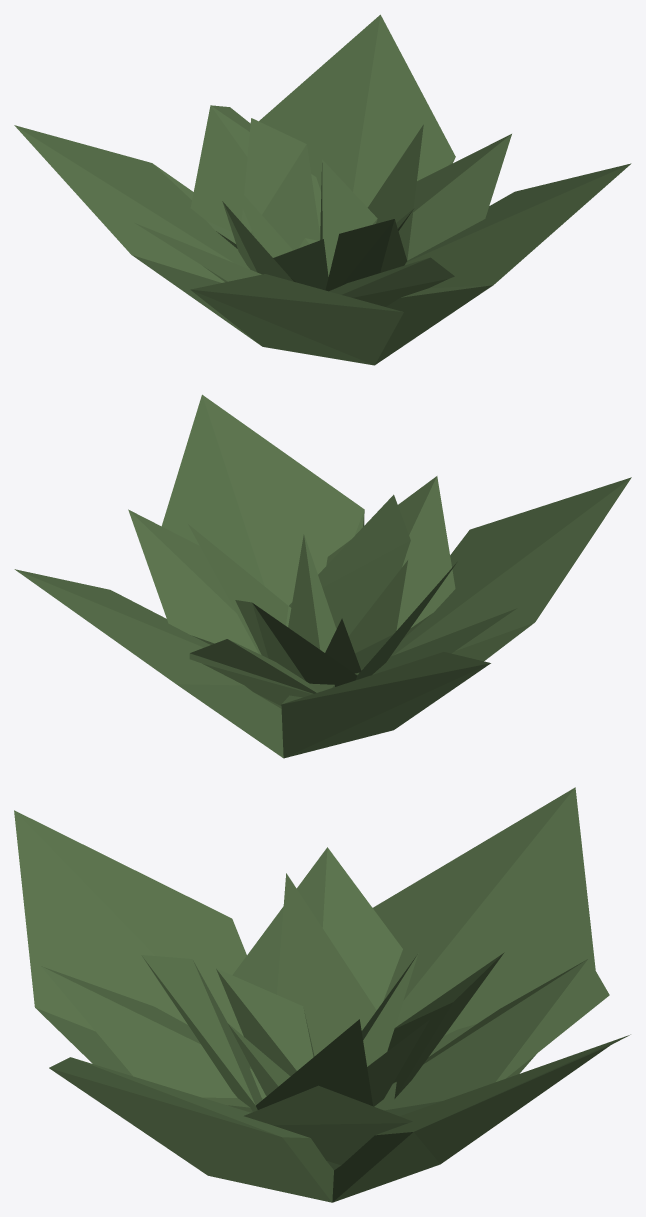
File: CactusFlower_1.lod3.glb
The picture shows the model from 3 angles, top to bottom: view 1: azimuth 30°, elevation 25°; view 2: azimuth 150°, elevation 25°; view 3: azimuth 270°, elevation 25°; orthographic projection. The views are drawn at different scales.
Parts seen in each view (by area): view 1: CactusFlower_1; view 2: CactusFlower_1; view 3: CactusFlower_1.
Boxes of the visible parts, x1,y1,x2,y2 form: CactusFlower_1: [14, 14, 631, 365]; CactusFlower_1: [14, 394, 631, 758]; CactusFlower_1: [14, 787, 630, 1202].
Size of the model in its own units: 0.8511 by 0.3659 by 0.8236.
